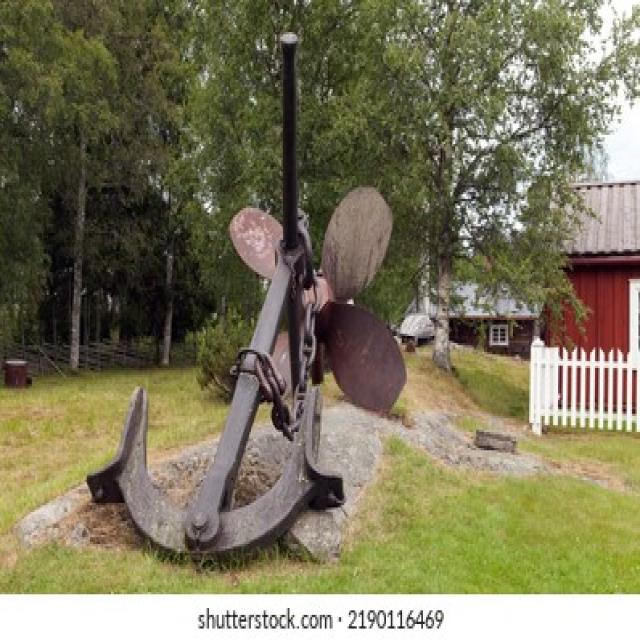corrosion: (83, 180, 410, 557), (278, 27, 301, 180)
